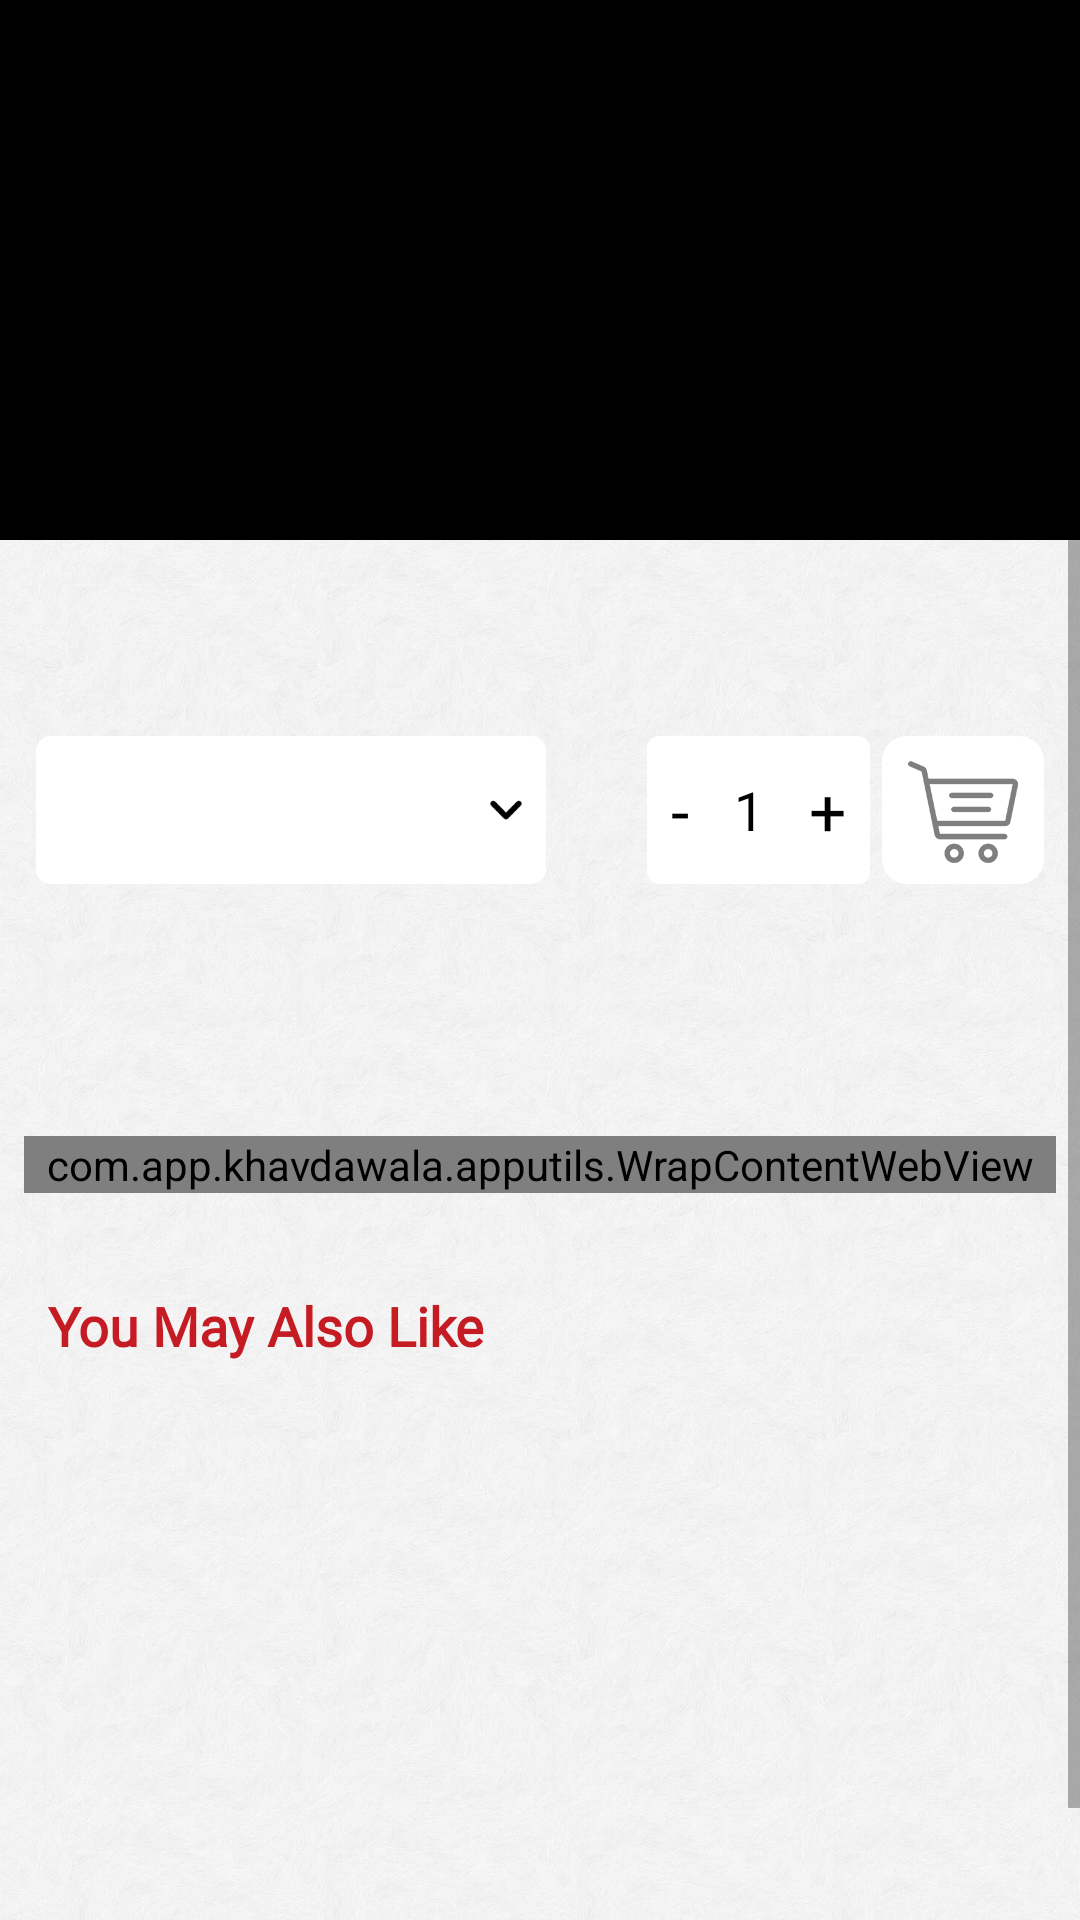

Named icons in this screenshot (1080px×1920px) and their bounding boxes, (x1=x1, y1=y1, x2=x2, y2=y2):
cart: (x1=882, y1=736, x2=1044, y2=884)
